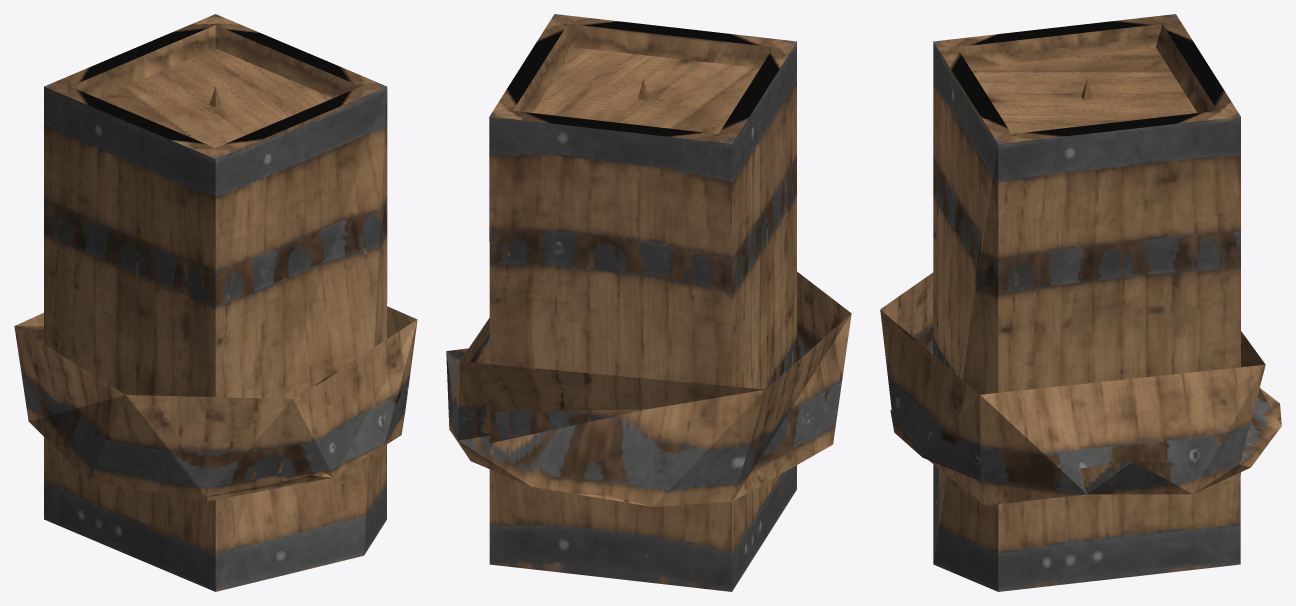
The model's file is barrel_lod2.glb.
The picture shows the model from 3 angles, left to right: view 1: azimuth 30°, elevation 25°; view 2: azimuth 150°, elevation 25°; view 3: azimuth 270°, elevation 25°; orthographic projection. The views are drawn at different scales.
Visible parts, largest first — view 1: geometry_0; view 2: geometry_0; view 3: geometry_0.
Boxes of the visible parts, left/top/right/bottom form: geometry_0: left=14, top=14, right=417, bottom=591; geometry_0: left=446, top=14, right=851, bottom=591; geometry_0: left=880, top=14, right=1281, bottom=591.
Size of the model in its own units: 0.8432 by 1.06 by 0.8649.
Materials: 1 (1 with a texture image).
